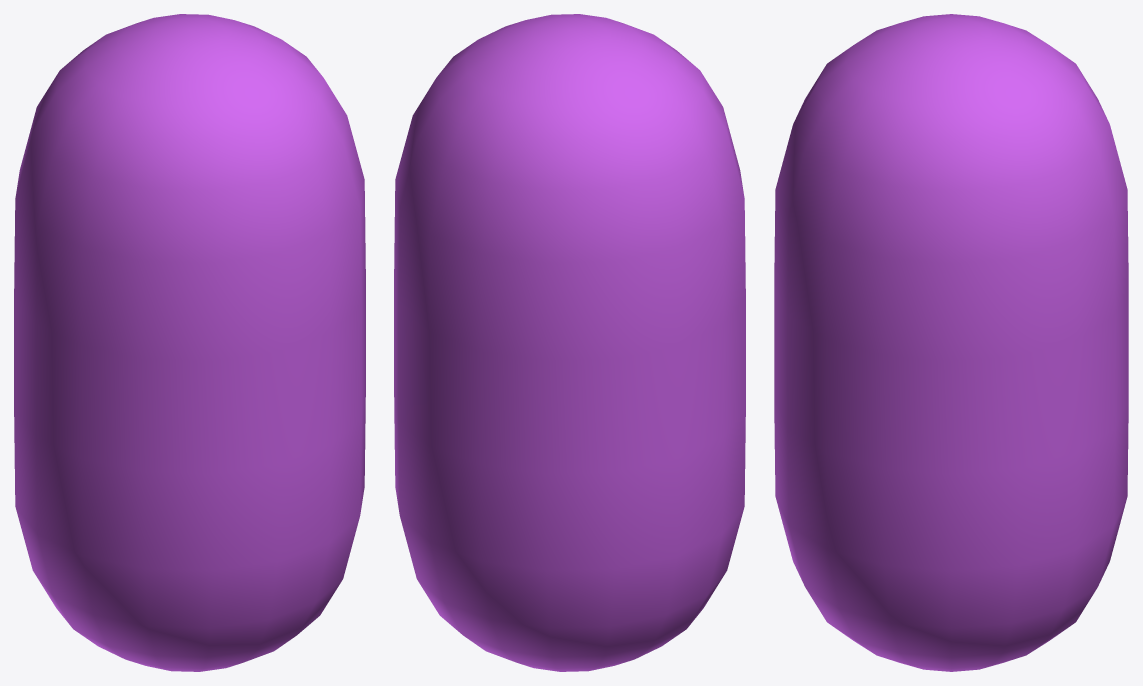
The model's file is RNApoly.glb.
The picture shows the model from 3 angles, left to right: view 1: azimuth 30°, elevation 25°; view 2: azimuth 150°, elevation 25°; view 3: azimuth 270°, elevation 25°; orthographic projection.
Visible parts, largest first — view 1: RNApoly; view 2: RNApoly; view 3: RNApoly.
Boxes of the visible parts, <box> form: RNApoly: <box>14,14,365,671</box>; RNApoly: <box>394,14,745,671</box>; RNApoly: <box>774,14,1128,671</box>.
Size of the model in its own units: 0.9305 by 1.81 by 0.9305.
